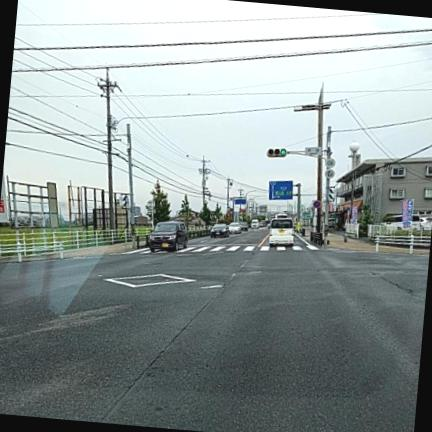Road: (0, 229, 428, 431)
